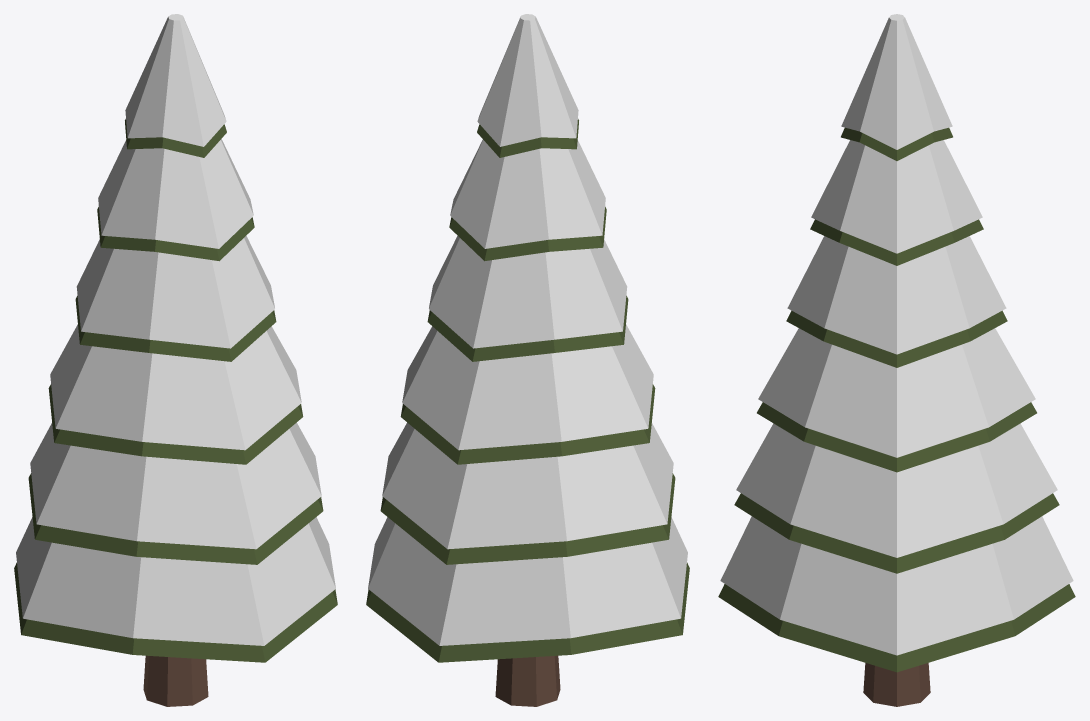
Rendered from snowy_pine.glb.
3 views of the same model, side by side, from view 1: azimuth 30°, elevation 25°; view 2: azimuth 150°, elevation 25°; view 3: azimuth 270°, elevation 25° (orthographic).
Visible parts, largest first — view 1: Cylinder; view 2: Cylinder; view 3: Cylinder.
Boxes of the visible parts, x1=… form: Cylinder: x1=14, y1=14, x2=337, y2=706; Cylinder: x1=366, y1=14, x2=689, y2=706; Cylinder: x1=718, y1=14, x2=1075, y2=706.
Size of the model in its own units: 2.94 by 6.12 by 2.94.
